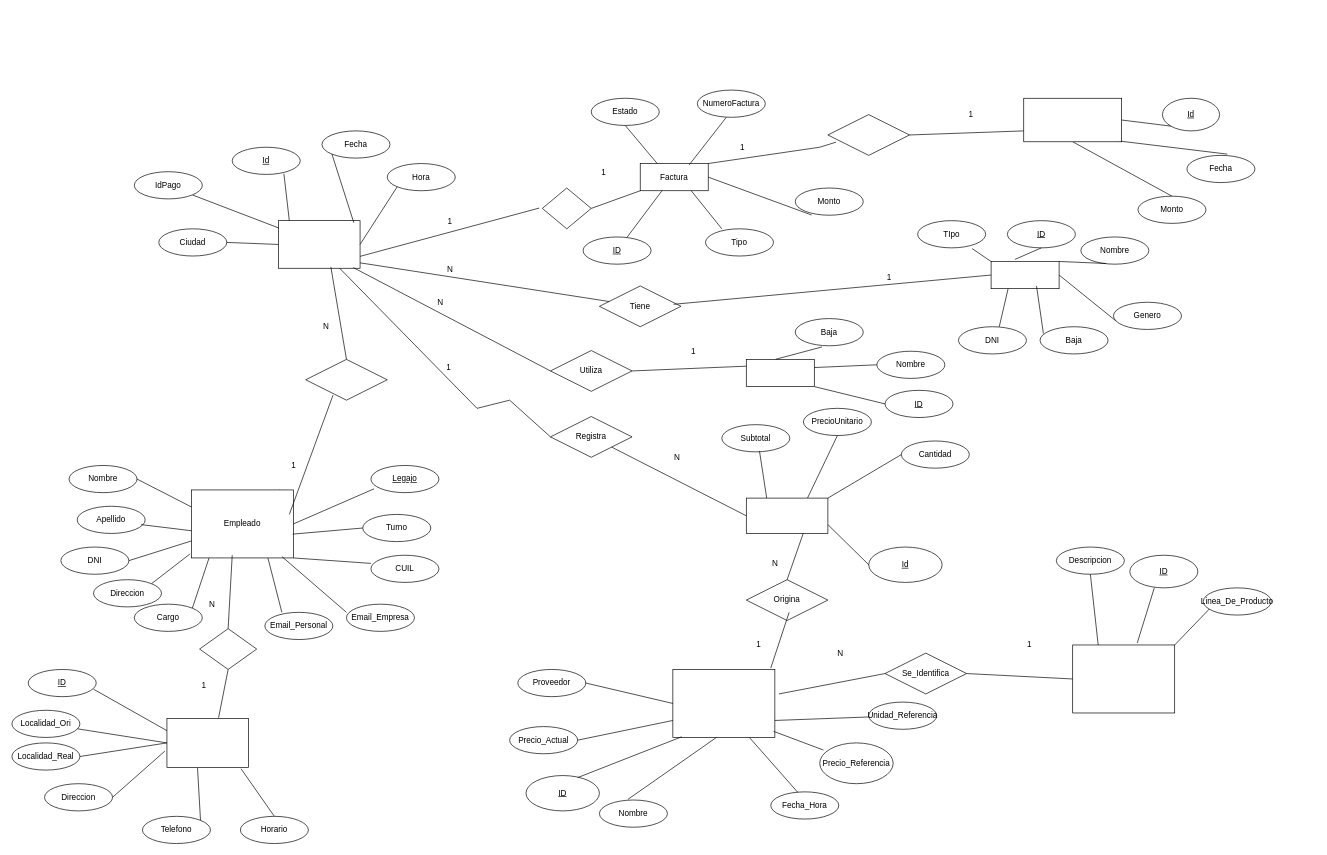
The diagram is 1327 pixels wide and 855 high, and some of its shapes have lost their labels. Each missing label, with the centre of its shape:
Administra: point 346,379
Categoria: point 1123,678
Cliente: point 1024,275
Detalle_Venta: point 787,515
Genera: point 566,208
Medio_Pago: point 780,373
Nota_De_Credito: point 1072,120
Produce: point 868,134
Producto: point 723,703
Sucursal: point 207,742
Trabaja_En: point 228,648
Venta_Registrada: point 319,244
